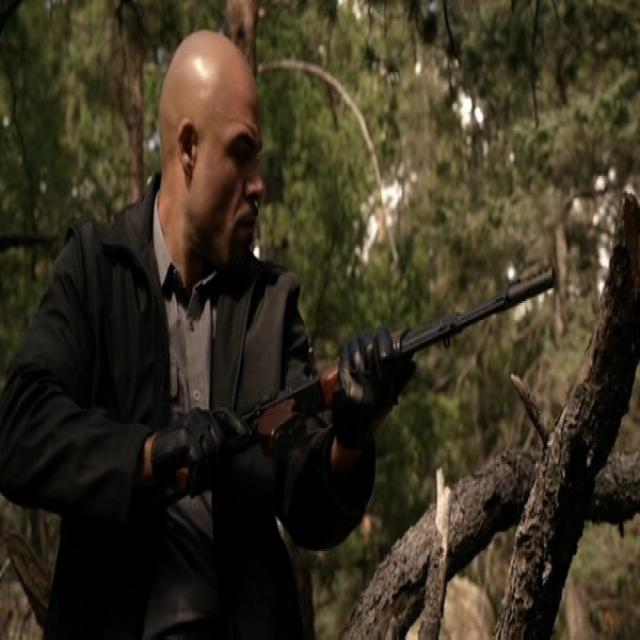rifle: (169, 262, 558, 517)
